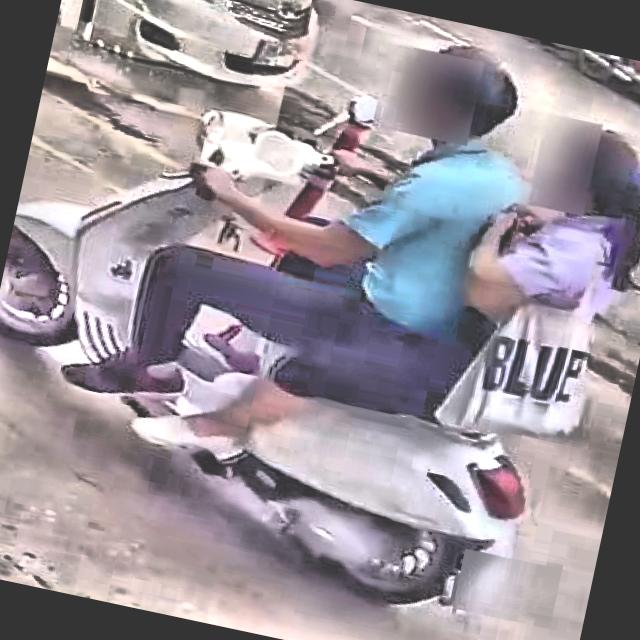motorcycle: (0, 33, 595, 632)
